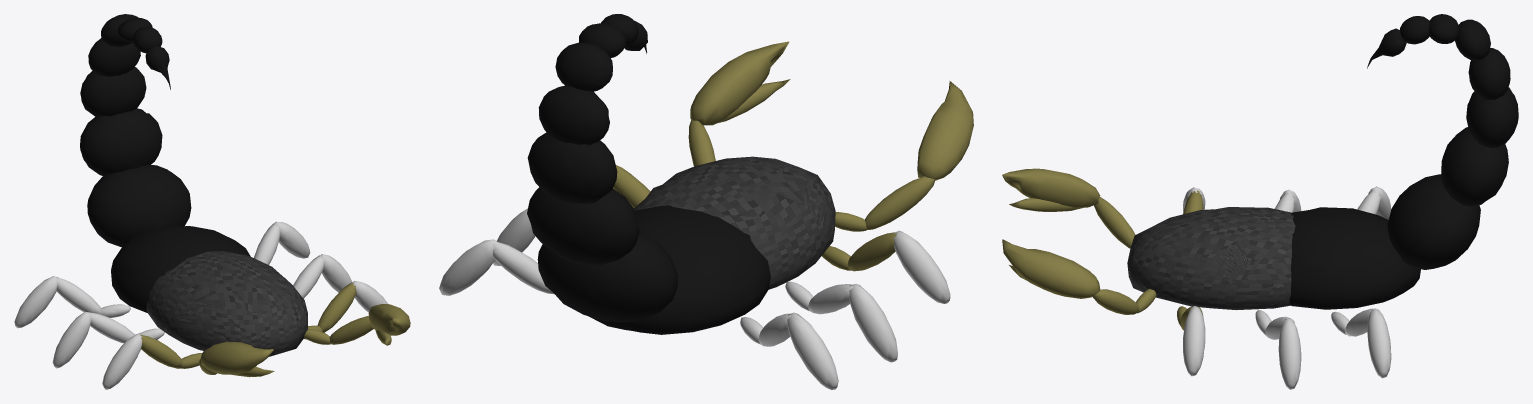
The model's file is scorpion_000017.obj.
3 views of the same model, side by side, from view 1: azimuth 30°, elevation 25°; view 2: azimuth 150°, elevation 25°; view 3: azimuth 270°, elevation 25° (orthographic). The views are drawn at different scales.
Visible parts, largest first — view 1: Sphere.010_Sphere.012, Sphere.002_Sphere.004, Sphere.011_Sphere.013, Sphere.003_Sphere.005, Sphere.030_Sphere.000, Sphere.004_Sphere.006, Sphere.014_Sphere.023, Sphere.012_Sphere.020, Sphere.000_Sphere.019, Sphere.013_Sphere.017, Sphere.018_Sphere.025, Sphere.016_Sphere.022 (+7 smaller); view 2: Sphere.010_Sphere.012, Sphere.011_Sphere.013, Sphere.002_Sphere.004, Sphere.030_Sphere.000, Sphere.003_Sphere.005, Sphere.004_Sphere.006, Sphere.014_Sphere.023, Sphere.005_Sphere.007, Sphere.012_Sphere.020, Sphere.028_Sphere.046, Sphere.006_Sphere.008, Sphere.018_Sphere.025 (+8 smaller); view 3: Sphere.010_Sphere.012, Sphere.011_Sphere.013, Sphere.002_Sphere.004, Sphere.030_Sphere.000, Sphere.003_Sphere.005, Sphere.004_Sphere.006, Sphere.028_Sphere.046, Sphere.005_Sphere.007, Sphere.014_Sphere.023, Sphere.012_Sphere.020, Sphere.000_Sphere.019, Sphere.006_Sphere.008 (+7 smaller).
Part boxes in pixels (left/top/right/bottom): Sphere.010_Sphere.012: left=146, top=251, right=307, bottom=356; Sphere.002_Sphere.004: left=87, top=164, right=191, bottom=247; Sphere.011_Sphere.013: left=111, top=226, right=250, bottom=312; Sphere.003_Sphere.005: left=80, top=108, right=162, bottom=175; Sphere.030_Sphere.000: left=200, top=304, right=410, bottom=374; Sphere.004_Sphere.006: left=80, top=67, right=146, bottom=117; Sphere.014_Sphere.023: left=14, top=221, right=310, bottom=328; Sphere.012_Sphere.020: left=52, top=254, right=352, bottom=368; Sphere.000_Sphere.019: left=102, top=281, right=387, bottom=389; Sphere.013_Sphere.017: left=140, top=282, right=356, bottom=368; Sphere.018_Sphere.025: left=56, top=223, right=280, bottom=314; Sphere.016_Sphere.022: left=87, top=255, right=324, bottom=343; Sphere.010_Sphere.012: left=634, top=156, right=835, bottom=289; Sphere.011_Sphere.013: left=588, top=205, right=770, bottom=334; Sphere.002_Sphere.004: left=537, top=230, right=678, bottom=322; Sphere.030_Sphere.000: left=690, top=41, right=973, bottom=180; Sphere.003_Sphere.005: left=527, top=187, right=639, bottom=265; Sphere.004_Sphere.006: left=527, top=132, right=617, bottom=203; Sphere.014_Sphere.023: left=439, top=239, right=838, bottom=389; Sphere.005_Sphere.007: left=538, top=85, right=609, bottom=144; Sphere.012_Sphere.020: left=493, top=208, right=897, bottom=362; Sphere.028_Sphere.046: left=688, top=120, right=935, bottom=229; Sphere.006_Sphere.008: left=555, top=42, right=612, bottom=91; Sphere.018_Sphere.025: left=493, top=242, right=790, bottom=346; Sphere.010_Sphere.012: left=1127, top=207, right=1295, bottom=310; Sphere.011_Sphere.013: left=1289, top=207, right=1420, bottom=309; Sphere.002_Sphere.004: left=1387, top=174, right=1480, bottom=269; Sphere.030_Sphere.000: left=1002, top=168, right=1100, bottom=298; Sphere.003_Sphere.005: left=1441, top=127, right=1508, bottom=206; Sphere.004_Sphere.006: left=1466, top=87, right=1518, bottom=148; Sphere.028_Sphere.046: left=1093, top=197, right=1138, bottom=314; Sphere.005_Sphere.007: left=1468, top=48, right=1510, bottom=99; Sphere.014_Sphere.023: left=1367, top=186, right=1391, bottom=378; Sphere.012_Sphere.020: left=1278, top=189, right=1301, bottom=389; Sphere.000_Sphere.019: left=1183, top=187, right=1205, bottom=376; Sphere.006_Sphere.008: left=1455, top=19, right=1490, bottom=60.
Bounding box in the file's own units: 0.9439 × 0.7894 × 1.26.
